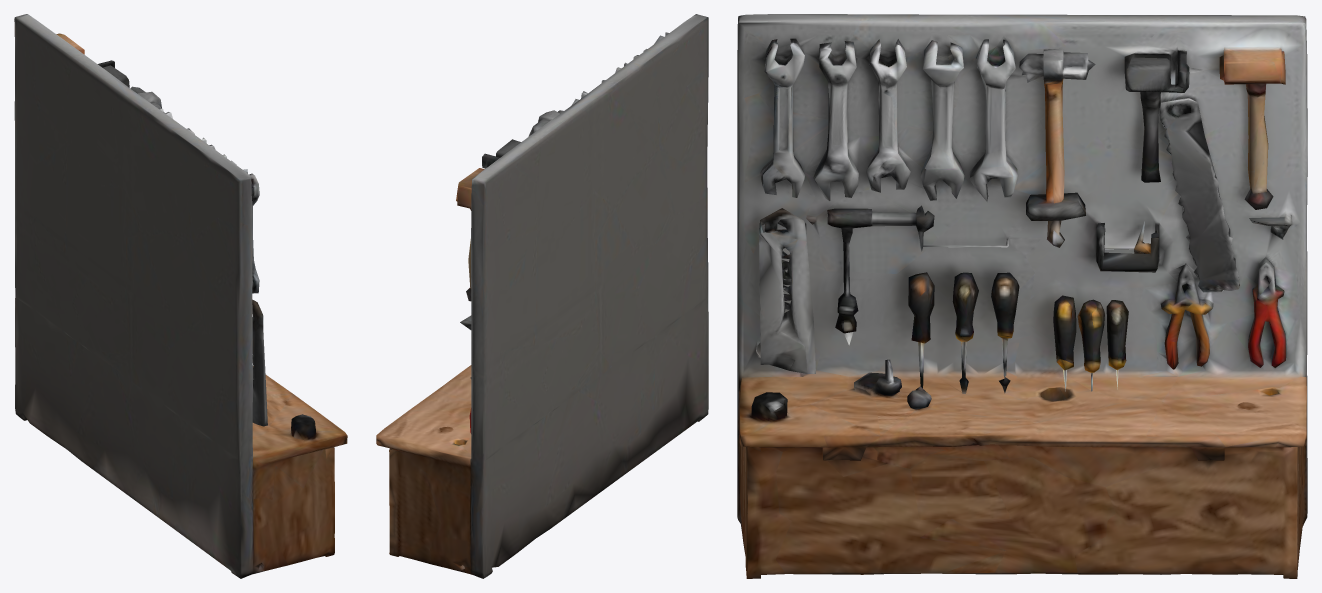
Rendered from gr_pegboard.glb.
The picture shows the model from 3 angles, left to right: view 1: azimuth 30°, elevation 25°; view 2: azimuth 150°, elevation 25°; view 3: azimuth 270°, elevation 25°; orthographic projection. The views are drawn at different scales.
Visible parts, largest first — view 1: tripo_node_96cd8fd6-2978-456a-9be4-4afb12420c9a; view 2: tripo_node_96cd8fd6-2978-456a-9be4-4afb12420c9a; view 3: tripo_node_96cd8fd6-2978-456a-9be4-4afb12420c9a.
Boxes of the visible parts, x1,y1,x2,y2 form: tripo_node_96cd8fd6-2978-456a-9be4-4afb12420c9a: [14, 14, 347, 578]; tripo_node_96cd8fd6-2978-456a-9be4-4afb12420c9a: [376, 14, 708, 578]; tripo_node_96cd8fd6-2978-456a-9be4-4afb12420c9a: [737, 14, 1307, 578].
Bounding box in the file's own units: 0.2751 × 0.9594 × 0.9804.
Materials: 1 (1 with a texture image).
